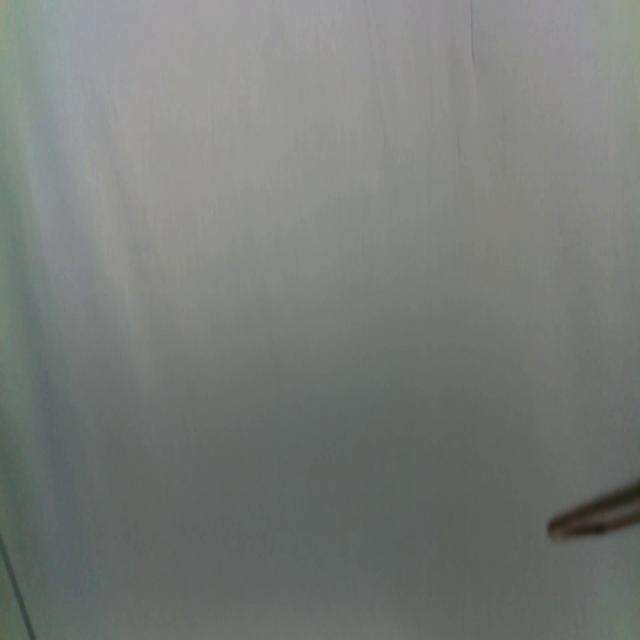crease: (0, 531, 36, 640), (468, 0, 477, 64)
